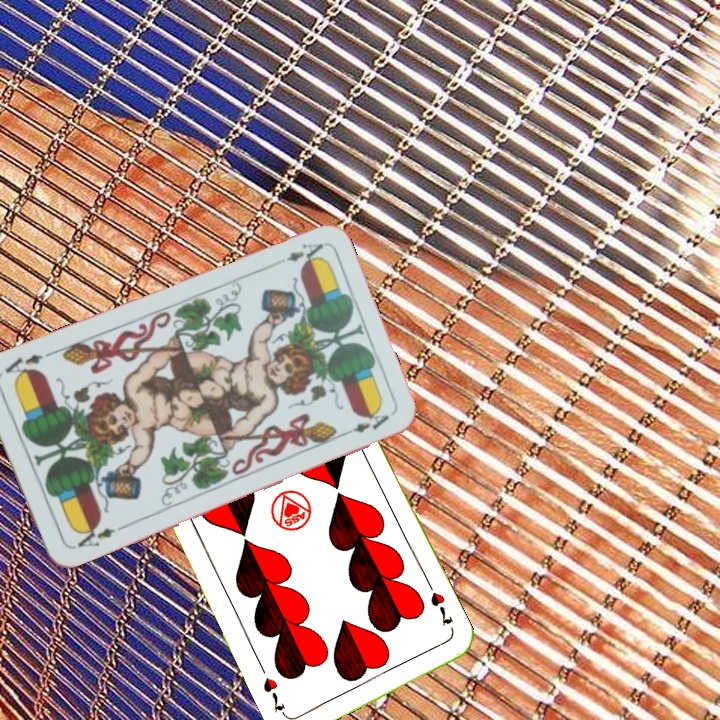EA: (69, 519, 125, 552), (281, 239, 326, 269)
H7: (426, 588, 456, 628)
